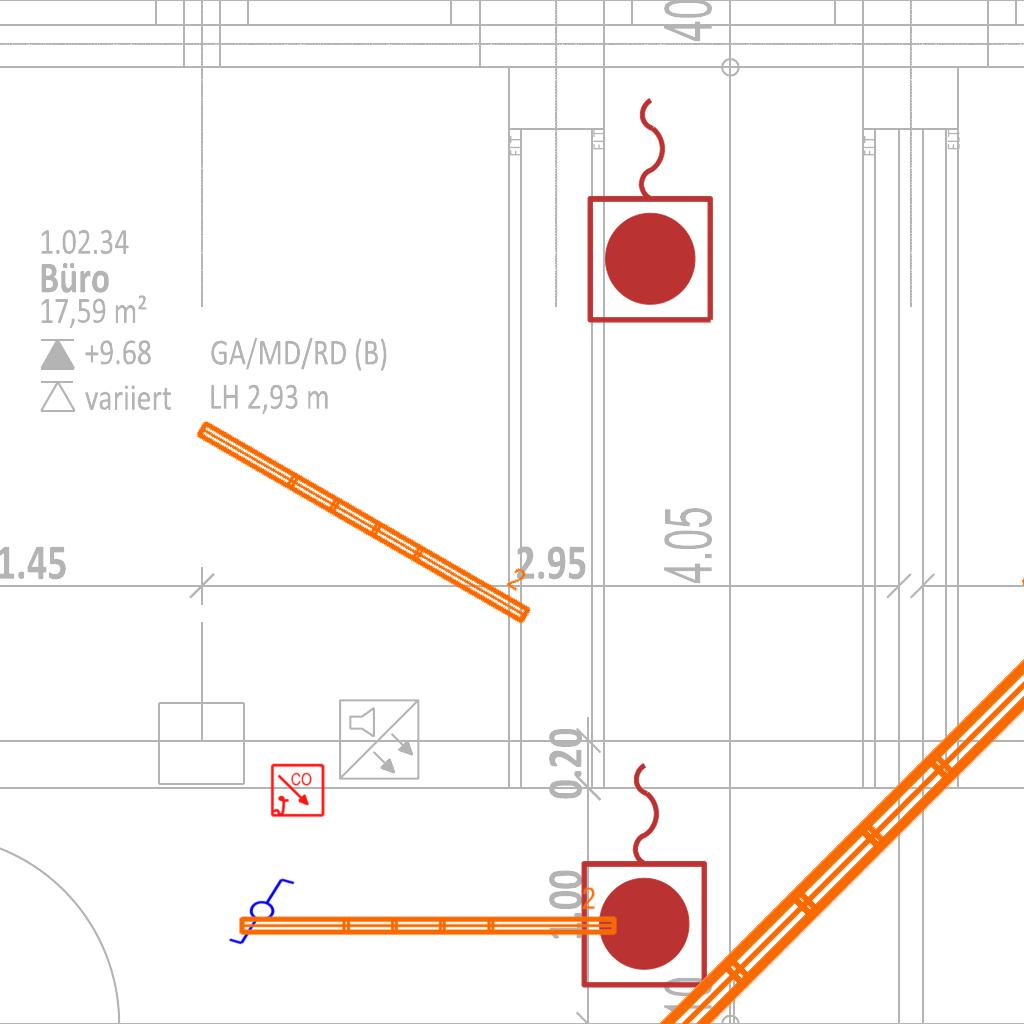Ambulanz_Pendelleuchte_LED: (520, 525, 1024, 1024), (187, 390, 552, 632), (234, 885, 621, 941)
ROA_Rauchmelder_optisch_mit_Signalgeber_(Sockelsirene): (270, 763, 326, 819)
Wechselschalter: (227, 876, 305, 948)
Zugtaster: (580, 87, 724, 331), (574, 752, 718, 996)
